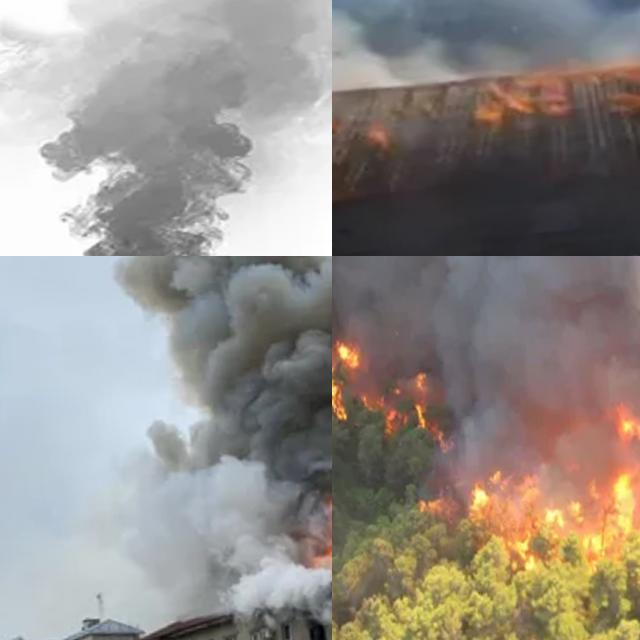smoke: (332, 256, 640, 536), (0, 0, 332, 256), (108, 256, 332, 575), (332, 0, 465, 103), (472, 0, 640, 81)
